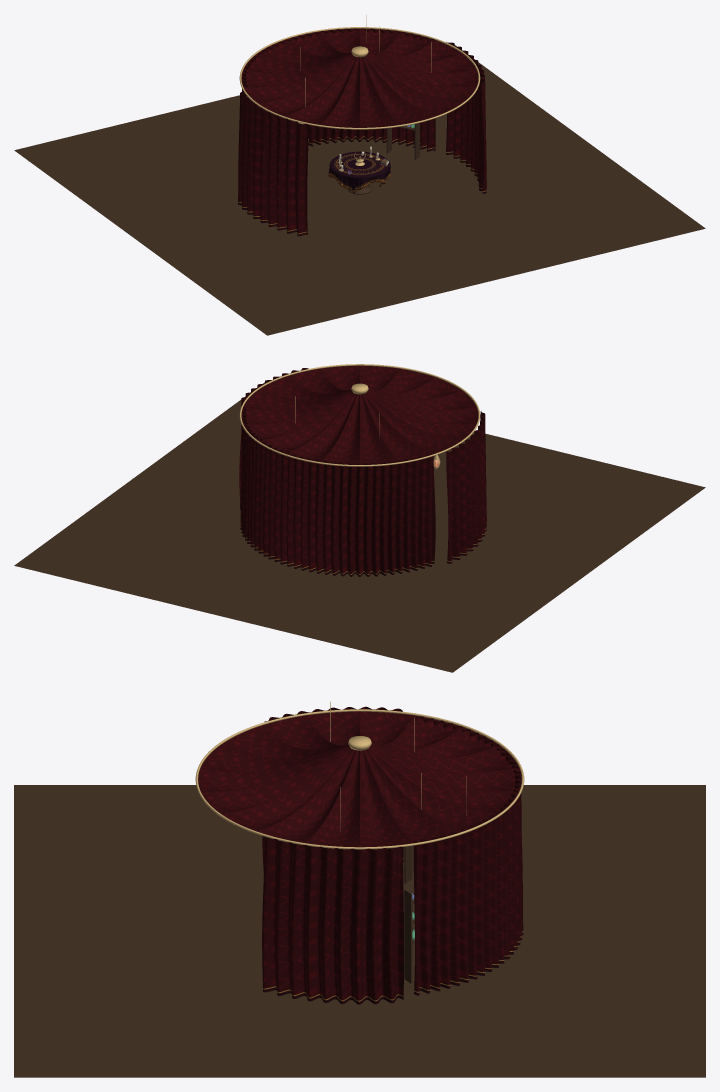
File: salon.glb
3 views of the same model, one above another, from view 1: azimuth 30°, elevation 25°; view 2: azimuth 150°, elevation 25°; view 3: azimuth 270°, elevation 25° (orthographic). The views are drawn at different scales.
Parts seen in each view (by area): view 1: Sol, Rideau_Gauche, Rideau_Droit, Rideau_Fond, Nappe, Rideau_Velum_11, Rideau_Velum_12, Rideau_Velum_13, Rideau_Velum_10, Tringle_Laiton, Rideau_Velum_9, Rideau_Velum_14 (+12 smaller); view 2: Sol, Rideau_Fond, Rideau_Gauche, Tringle_Laiton, Rideau_Velum_5, Rideau_Velum_6, Rideau_Velum_7, Rideau_Velum_4, Rideau_Velum_8, Rideau_Velum_3, Rideau_Velum_9, Rideau_Velum_2 (+10 smaller); view 3: Sol, Rideau_Droit, Rideau_Fond, Rideau_Velum_0, Rideau_Velum_17, Rideau_Velum_16, Rideau_Velum_1, Rideau_Velum_15, Tringle_Laiton, Rideau_Velum_2, Rideau_Velum_14, Rideau_Velum_3 (+11 smaller).
Boxes of the visible parts, x1,y1,x2,y2 form: Sol: (14,45,705,335); Rideau_Gauche: (238,91,308,236); Rideau_Droit: (446,42,486,193); Rideau_Fond: (242,28,435,151); Nappe: (328,151,391,193); Rideau_Velum_11: (320,57,359,127); Rideau_Velum_12: (360,57,399,127); Rideau_Velum_13: (362,56,434,124); Rideau_Velum_10: (285,56,357,124); Tringle_Laiton: (239,27,480,129); Rideau_Velum_9: (259,55,354,116); Rideau_Velum_14: (365,55,460,116); Sol: (14,382,705,672); Rideau_Fond: (240,407,435,576); Rideau_Gauche: (446,411,486,563); Tringle_Laiton: (239,364,480,466); Rideau_Velum_5: (321,394,359,464); Rideau_Velum_6: (360,394,398,464); Rideau_Velum_7: (362,393,434,461); Rideau_Velum_4: (285,393,357,461); Rideau_Velum_8: (365,393,461,453); Rideau_Velum_3: (258,393,354,452); Rideau_Velum_9: (366,392,475,440); Rideau_Velum_2: (244,392,353,440); Sol: (14,785,705,1077); Rideau_Droit: (262,838,403,1004); Rideau_Fond: (413,716,523,995); Rideau_Velum_0: (360,750,413,847); Rideau_Velum_17: (306,750,359,847); Rideau_Velum_16: (258,749,356,843); Rideau_Velum_1: (363,749,461,843); Rideau_Velum_15: (221,748,352,831); Tringle_Laiton: (195,709,524,849); Rideau_Velum_2: (367,748,498,831); Rideau_Velum_14: (201,747,350,813); Rideau_Velum_3: (369,747,518,813).
Bounding box in the file's own units: 14 × 4.26 × 14.
Materials: 26 (5 with a texture image).
